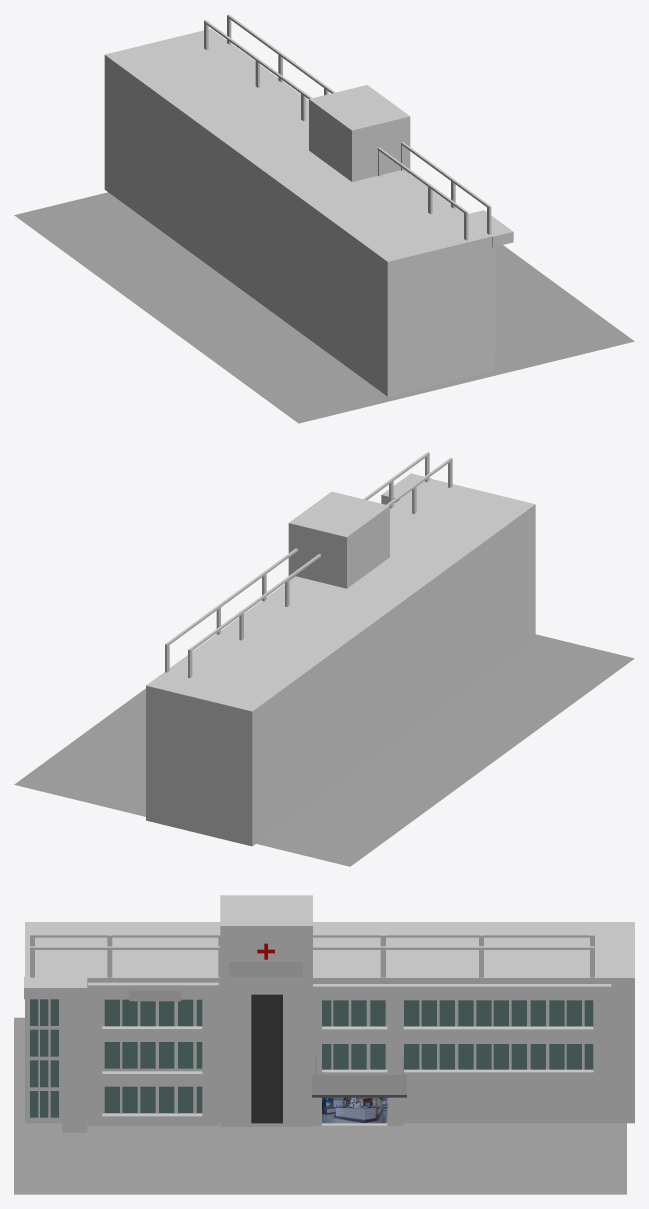
The model's file is manipal hospital fbx.fbx.
3 renders of one model, top to bottom at view 1: azimuth 30°, elevation 25°; view 2: azimuth 150°, elevation 25°; view 3: azimuth 270°, elevation 25°, orthographic. The views are drawn at different scales.
Visible parts, largest first — view 1: pCube1, pPlane27, pCube3, pCube22, pCube18, pCube9; view 2: pCube1, pPlane27, pCube3, pCube22, pCube18; view 3: pCube1, pPlane27, pCube3, pCube4, pCube7, pCube9, pCube5, pPlane1, pCube23, pCube18, pCube8, pCube22 (+23 smaller).
Part boxes in pixels (x1,y1,x2,y2): pCube1: (104,28,494,396); pPlane27: (14,192,634,423); pCube3: (309,85,410,181); pCube22: (205,21,468,240); pCube18: (229,16,491,234); pCube9: (468,210,513,353); pCube1: (146,478,535,846); pPlane27: (14,634,634,866); pCube3: (288,491,389,588); pCube22: (191,458,452,650); pCube18: (167,452,429,644); pCube1: (25,922,634,1123); pPlane27: (14,1017,626,1194); pCube3: (220,895,312,1126); pCube4: (313,984,611,1086); pCube7: (88,982,218,1125); pCube9: (24,976,87,1132); pCube5: (313,1026,594,1043); pPlane1: (251,994,282,1123); pCube23: (312,1075,406,1097); pCube18: (30,946,590,977); pCube8: (88,982,102,1125); pCube22: (30,934,589,946).
Size of the model in its own units: 31.18 by 16.52 by 46.3.
